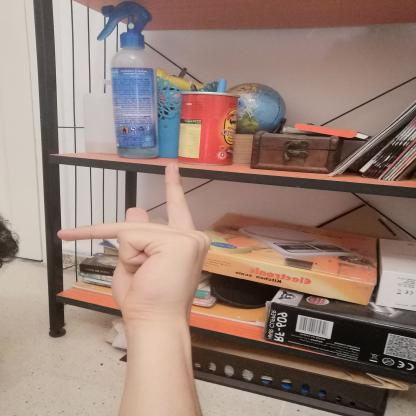DHAA: (41, 150, 223, 333)
